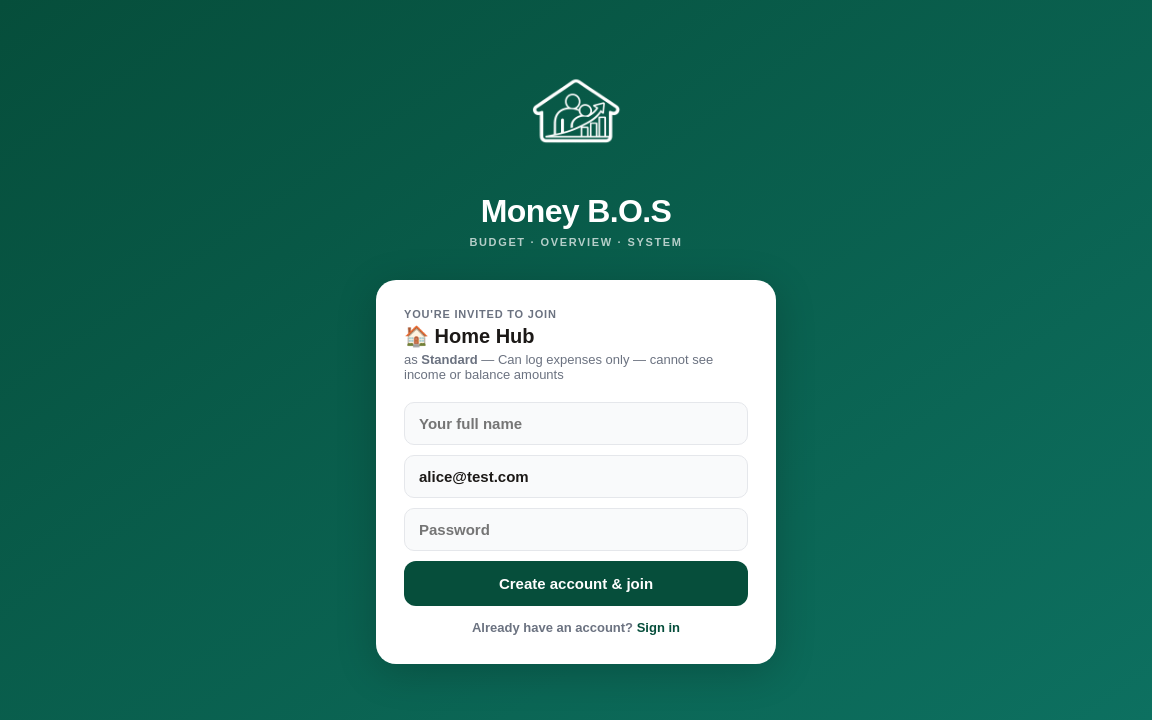
JoinView — auth phase defaults for invite arrivals › toggle switches to signin and hides the name field
The width and height of the screenshot is (1152, 720).
Click the button with test id "auth-mode-toggle" at [576, 624], box [404,614,748,635]
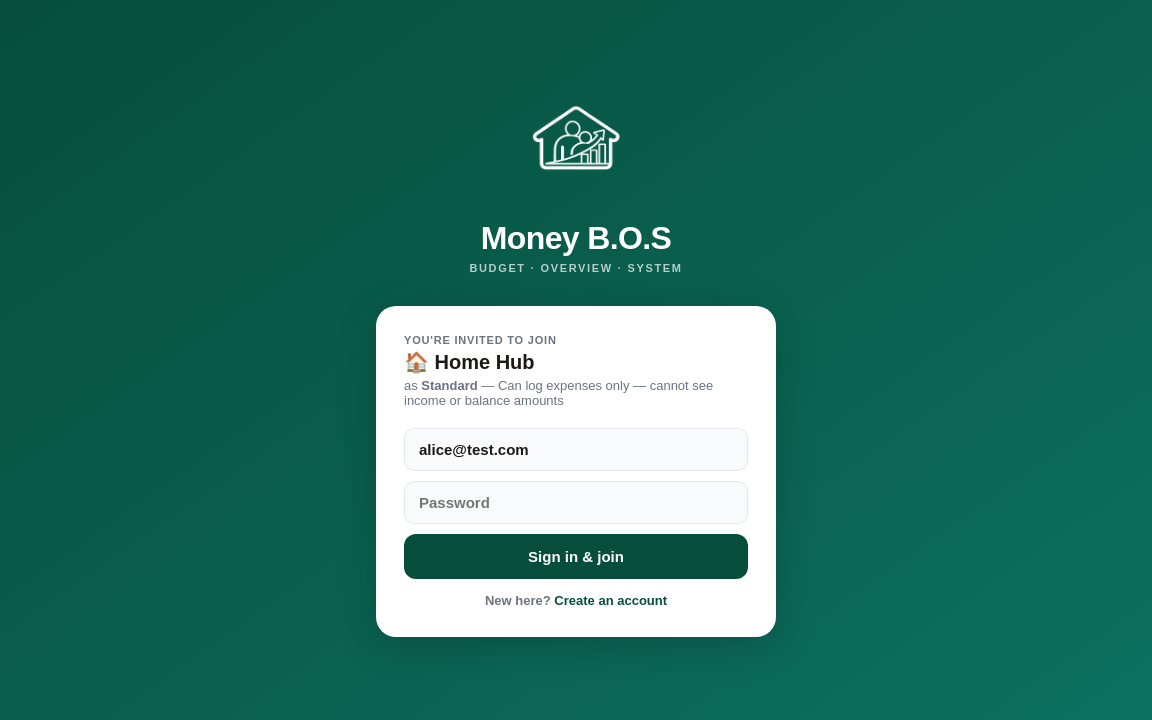
Expected: the field with placeholder "Your full name" is not shown
Expected: the button "Sign in & join" is shown, [404,534,748,579]
Expected: the button with test id "auth-mode-toggle" shows "New here?", [404,587,748,608]
